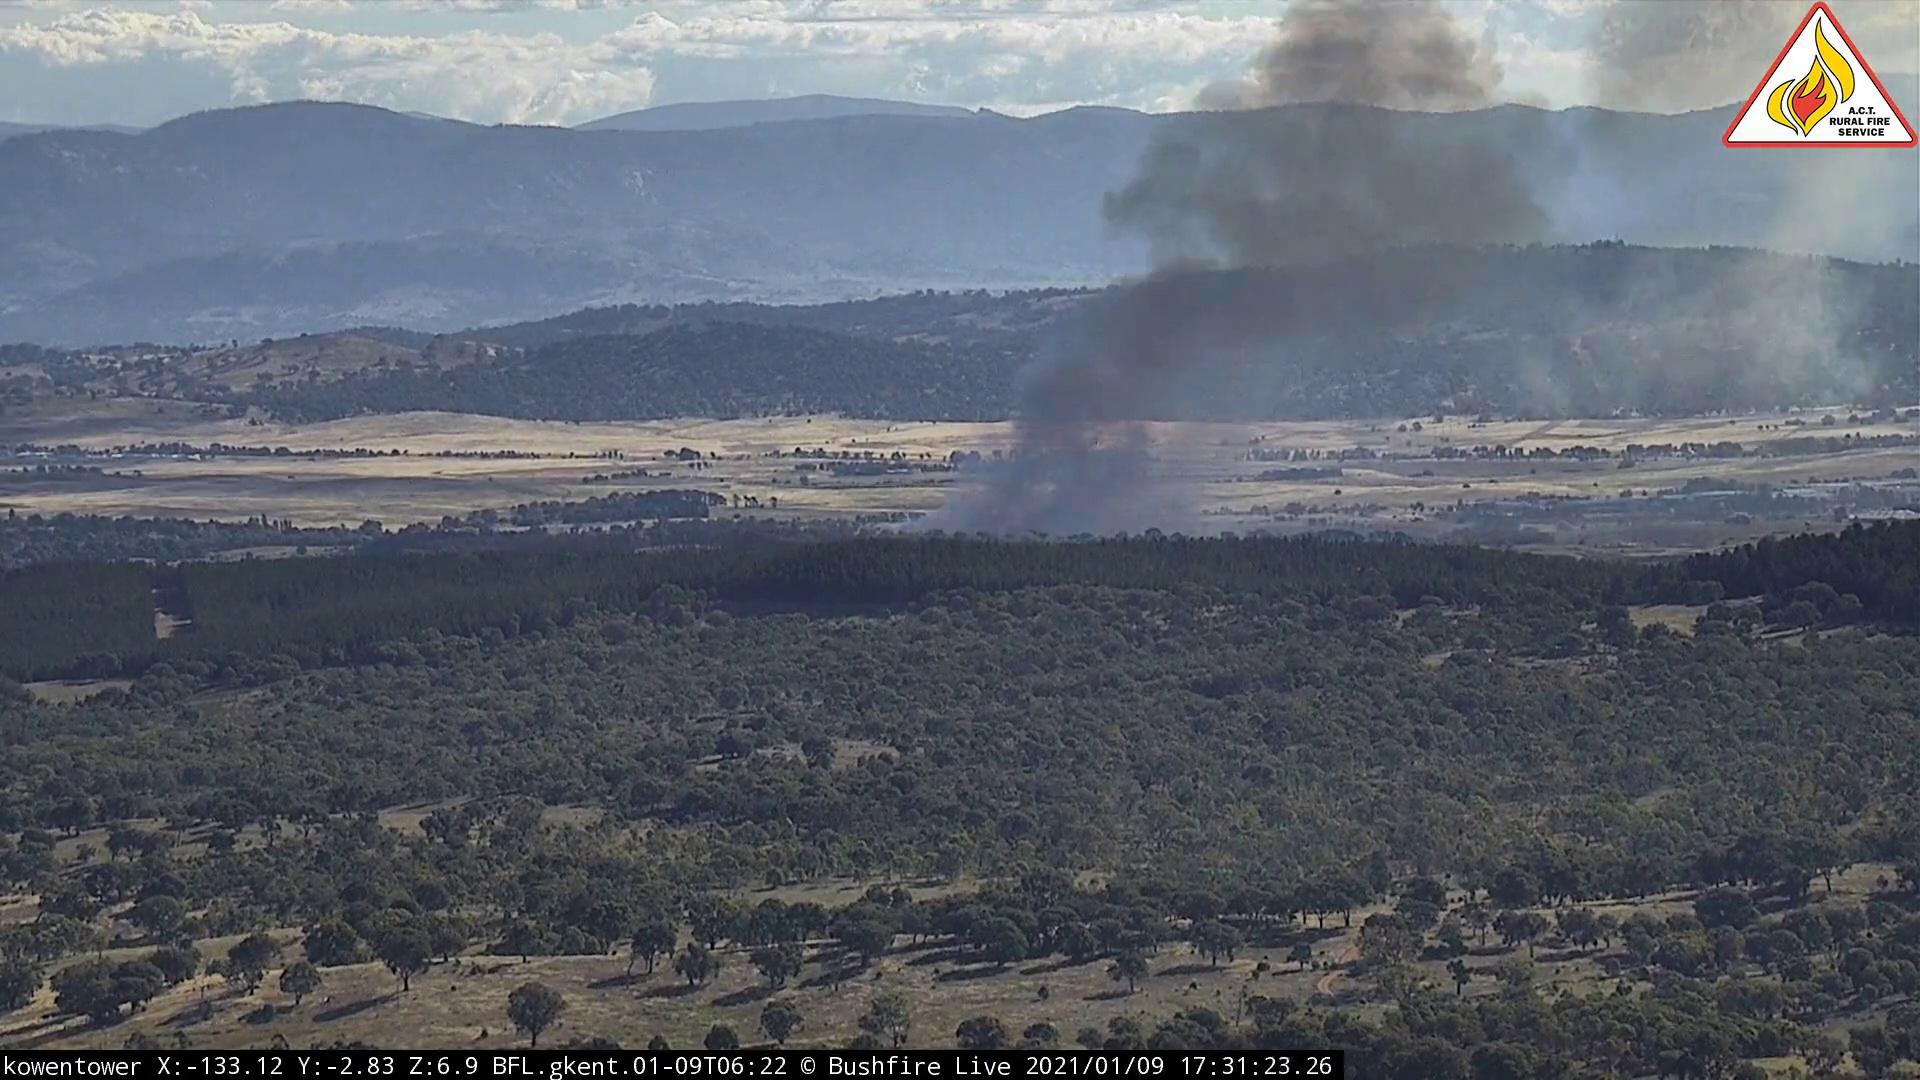Smoke: (884, 3, 1720, 550)
